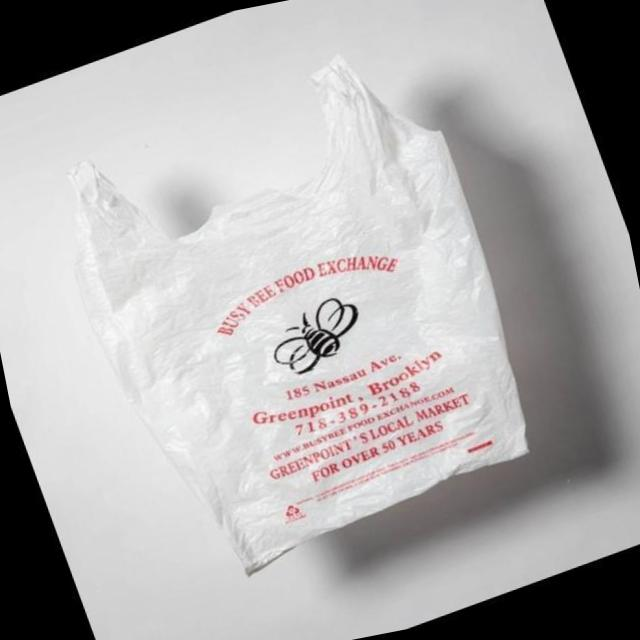KantongPlastik: (42, 31, 546, 598)
